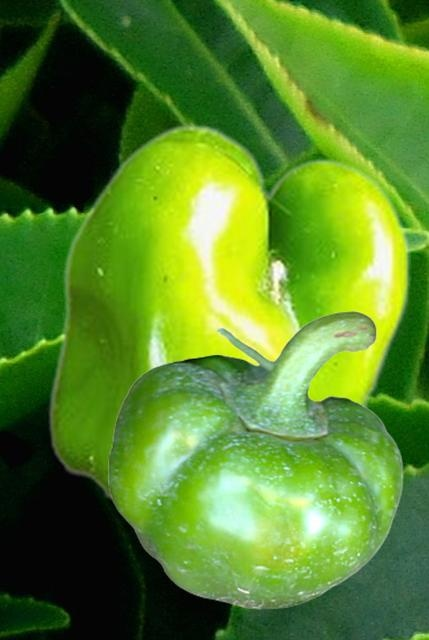bell_pepper: (47, 123, 409, 505), (108, 310, 402, 608)
